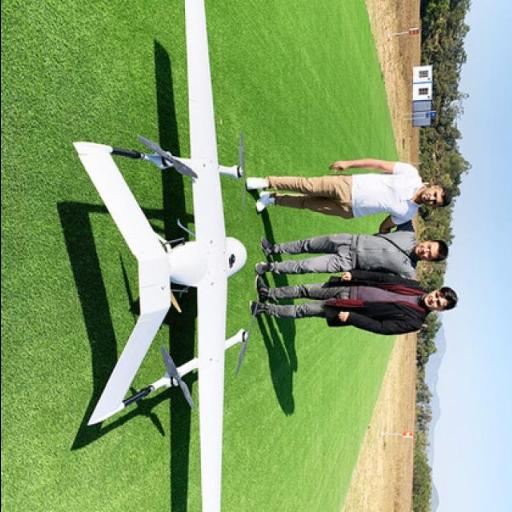uav: (68, 3, 254, 512)
